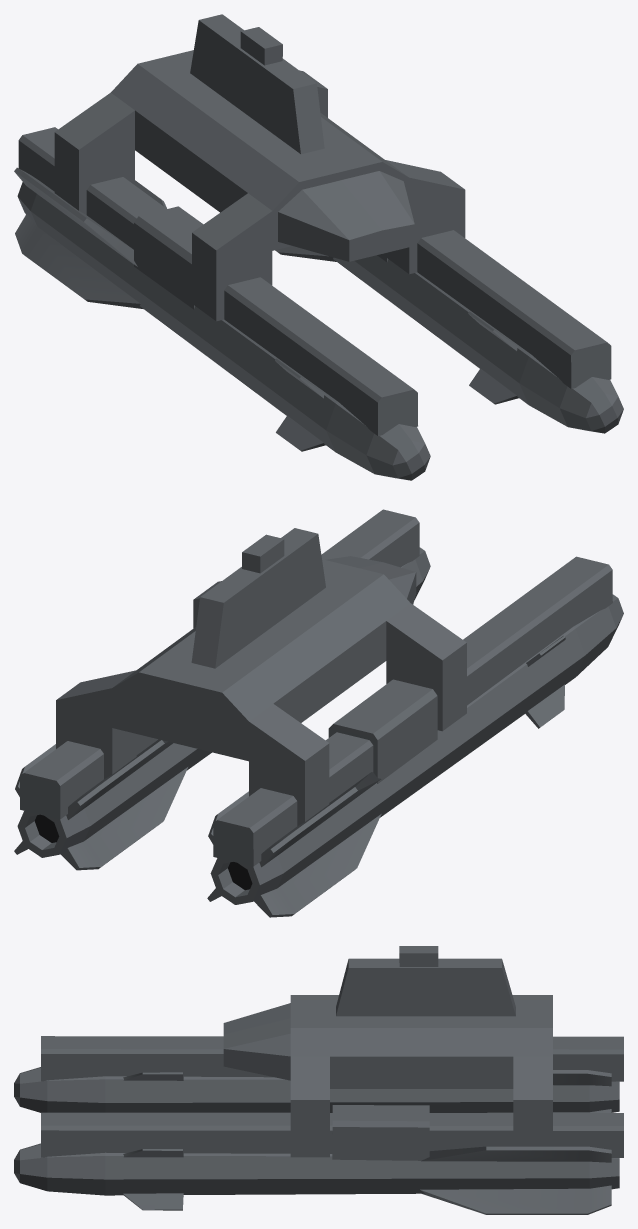
File: SM_Veh_Heli_Attach_Rocket_Pod_01.fbx
3 renders of one model, top to bottom at view 1: azimuth 30°, elevation 25°; view 2: azimuth 150°, elevation 25°; view 3: azimuth 270°, elevation 25°, orthographic. The views are drawn at different scales.
Visible parts, largest first — view 1: SM_Veh_Heli_Attach_Rocket_Pod_01; view 2: SM_Veh_Heli_Attach_Rocket_Pod_01; view 3: SM_Veh_Heli_Attach_Rocket_Pod_01.
Part boxes in pixels (x1,y1,x2,y2): SM_Veh_Heli_Attach_Rocket_Pod_01: [14, 14, 623, 480]; SM_Veh_Heli_Attach_Rocket_Pod_01: [14, 509, 623, 917]; SM_Veh_Heli_Attach_Rocket_Pod_01: [14, 946, 623, 1214].
Bounding box in the file's own units: 56.68 × 51.76 × 135.
